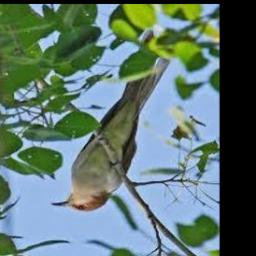Cuckoo: (50, 32, 172, 212)
